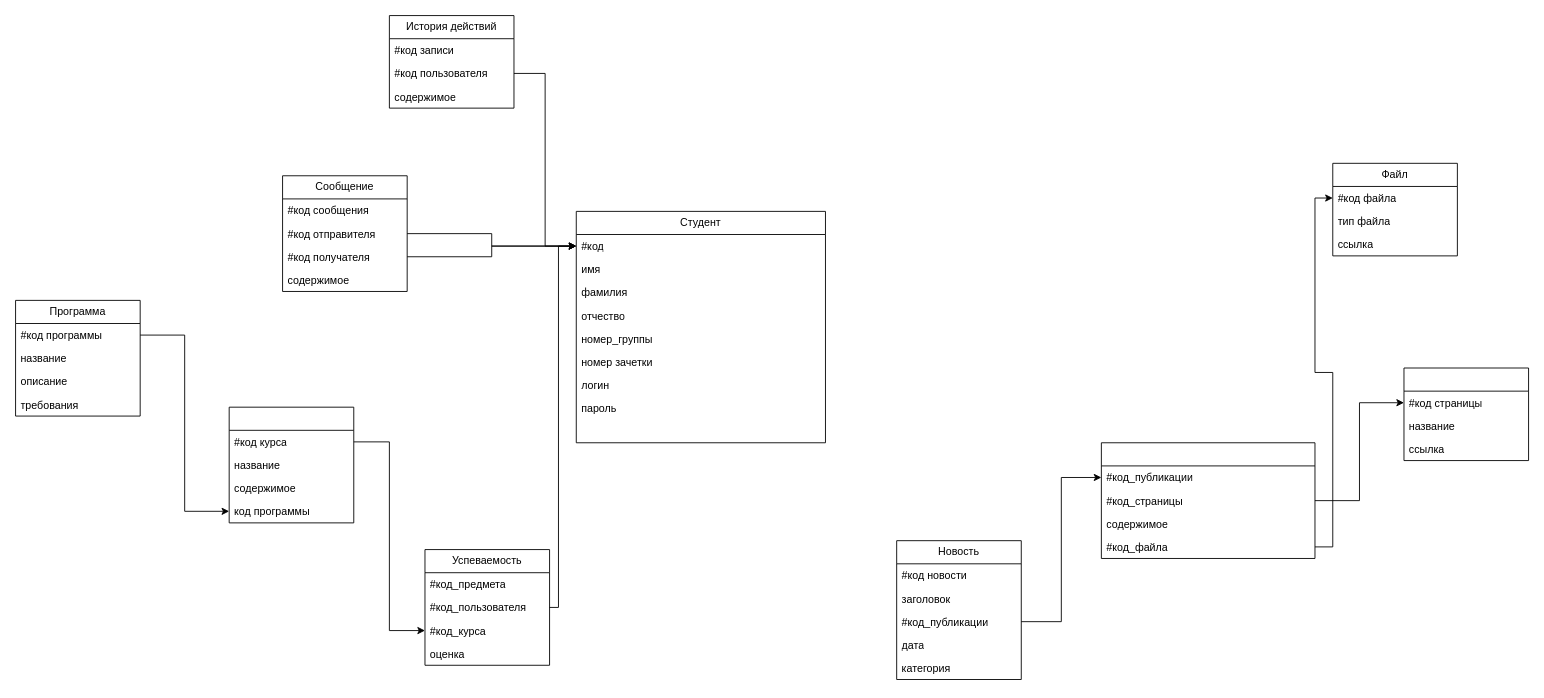
This 1544x698 diagram has some shape labels left out. The box of each missing label's shape, as (x1, y1, x2, y2) in pixels:
Онлайн курс: (228, 406, 354, 523)
Публикация: (1100, 442, 1315, 558)
страница: (1403, 367, 1529, 461)
